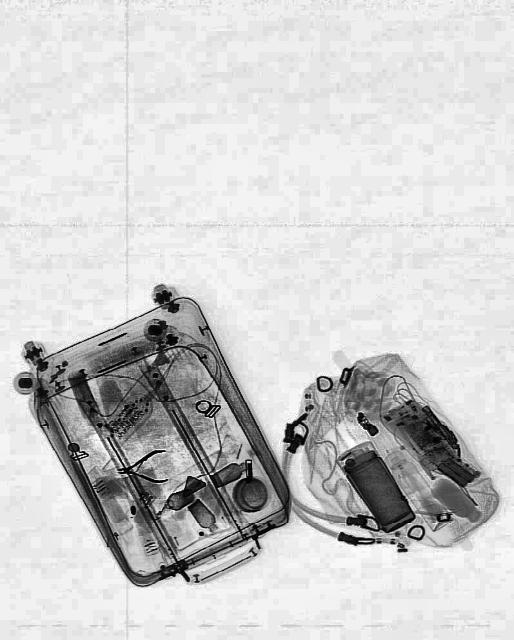Pliers: (116, 450, 168, 484)
